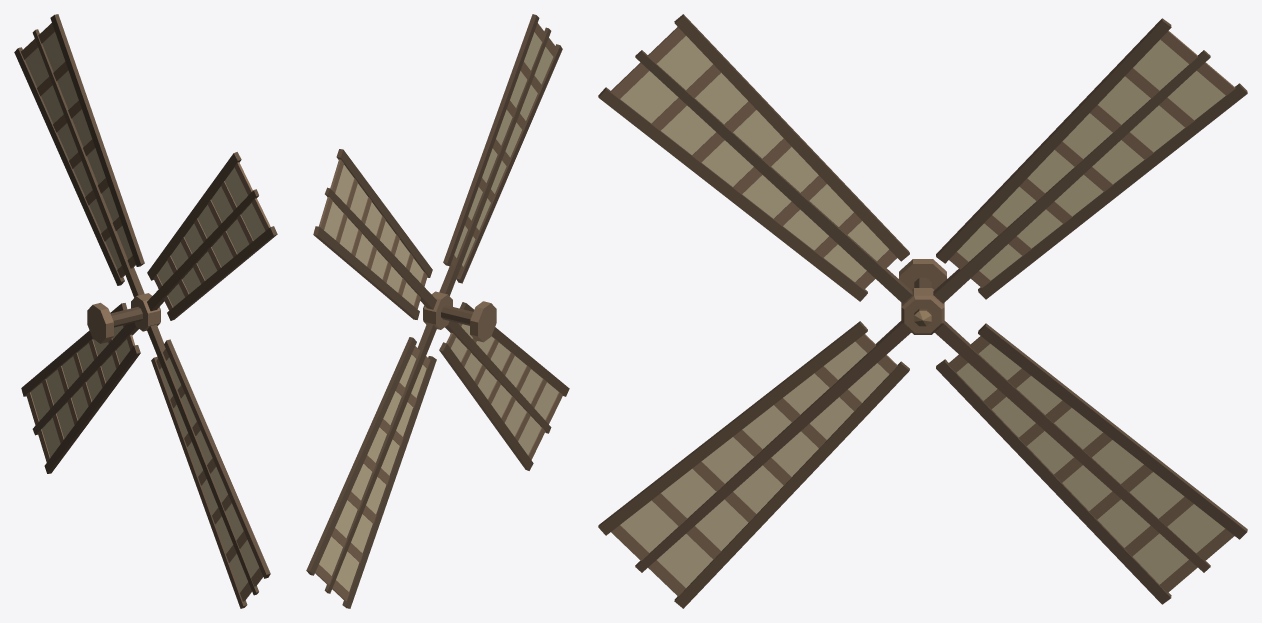
Rendered from Wall_Prop_Windmill_1.glb.
The picture shows the model from 3 angles, left to right: view 1: azimuth 30°, elevation 25°; view 2: azimuth 150°, elevation 25°; view 3: azimuth 270°, elevation 25°; orthographic projection. The views are drawn at different scales.
Visible parts, largest first — view 1: Wall_Prop_Windmill_1; view 2: Wall_Prop_Windmill_1; view 3: Wall_Prop_Windmill_1.
Part boxes in pixels (<box>): Wall_Prop_Windmill_1: <box>14,14,277,608</box>; Wall_Prop_Windmill_1: <box>306,14,569,608</box>; Wall_Prop_Windmill_1: <box>598,14,1247,608</box>.
Bounding box in the file's own units: 1.02 × 7 × 7.
